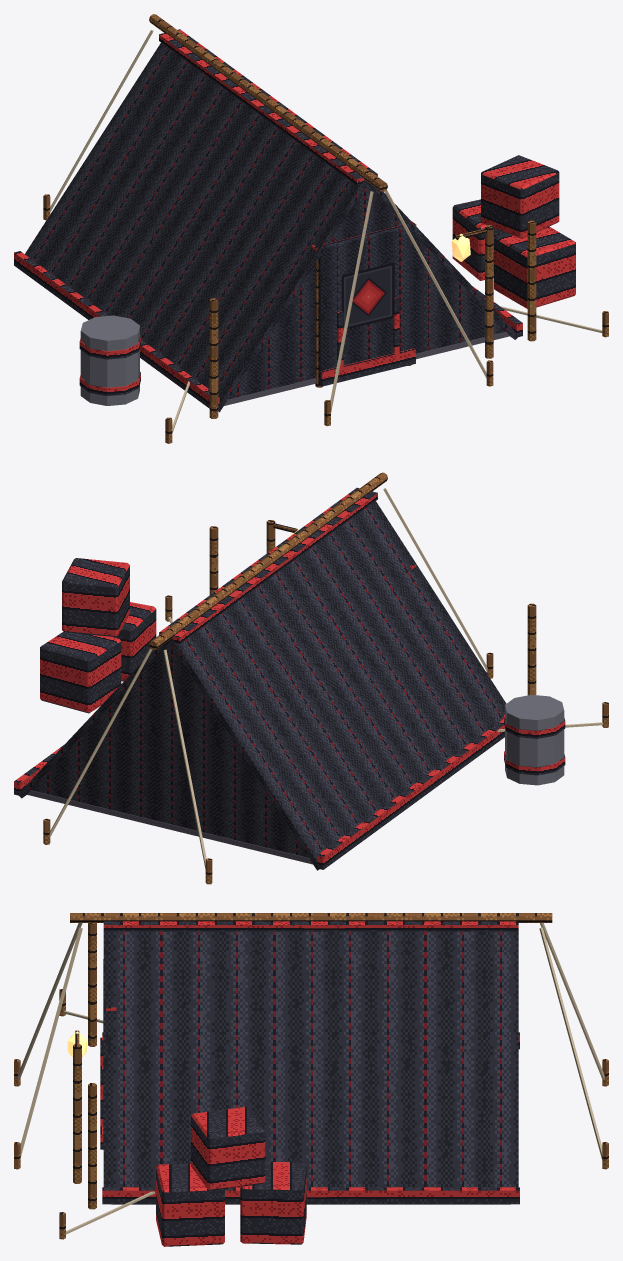
The model's file is rocket_tent.glb.
3 views of the same model, one above another, from view 1: azimuth 30°, elevation 25°; view 2: azimuth 150°, elevation 25°; view 3: azimuth 270°, elevation 25° (orthographic). The views are drawn at different scales.
Parts seen in each view (by area): view 1: Tent, Door; view 2: Tent; view 3: Tent, Door.
Boxes of the visible parts, left/top/right/bottom form: Tent: left=14, top=14, right=608, bottom=443; Door: left=318, top=226, right=415, bottom=386; Tent: left=14, top=472, right=608, bottom=884; Tent: left=14, top=913, right=608, bottom=1246; Door: left=100, top=959, right=103, bottom=1149.
Size of the model in its own units: 7.71 by 3.17 by 7.89.
Materials: 9 (4 with a texture image).
